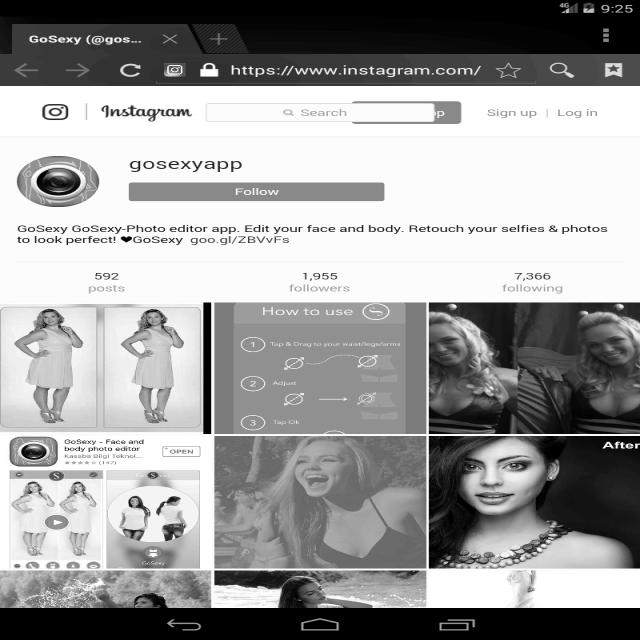Button: (124, 180, 389, 204)
EditText: (205, 100, 438, 126)
ImageButton: (62, 61, 98, 81), (39, 100, 70, 122), (547, 61, 581, 81), (114, 61, 148, 79), (590, 24, 619, 45), (159, 61, 189, 81), (600, 61, 630, 81), (493, 61, 524, 80), (12, 64, 47, 80), (196, 60, 220, 78)
ImageView: (0, 306, 629, 606), (13, 153, 101, 210)
TextView: (11, 220, 618, 246), (229, 60, 483, 80), (125, 153, 249, 175), (97, 98, 198, 124), (28, 30, 142, 50), (289, 266, 359, 296), (499, 266, 569, 296), (82, 266, 134, 296), (552, 104, 610, 124), (487, 105, 538, 119)
